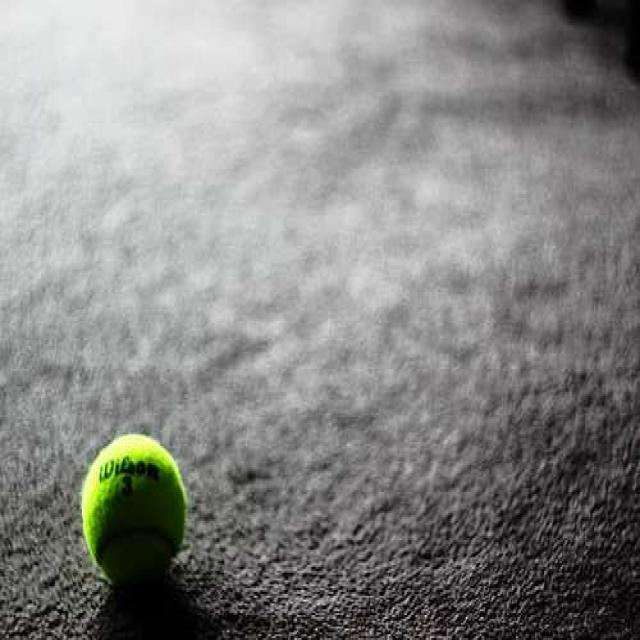Tennis_Ball: (84, 436, 186, 583)
